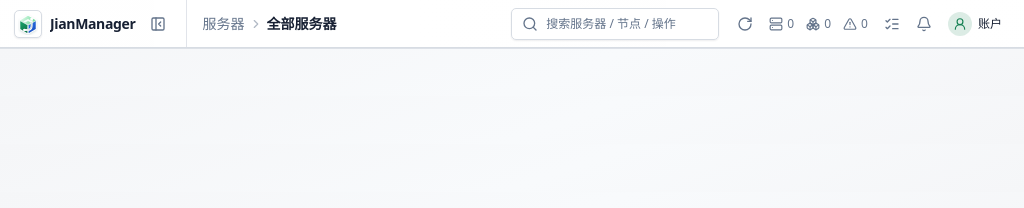
Test case: ConsoleHeader 任务中心下拉面板（FR-327） › 底部「进入任务中心」→ /tasks；面板随选择关闭
Click the button named "任务中心": click(892, 24) left=878, top=12, right=906, bottom=36
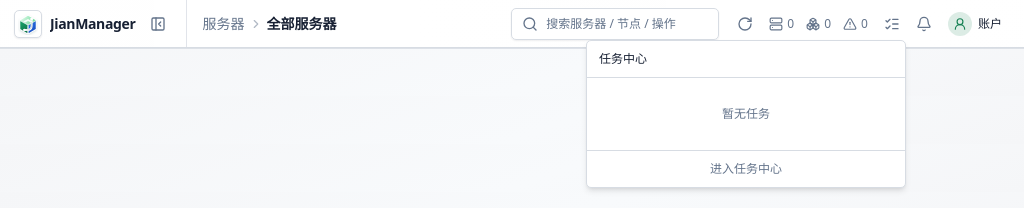
Click the menu item "进入任务中心": click(746, 168) left=710, top=160, right=782, bottom=177
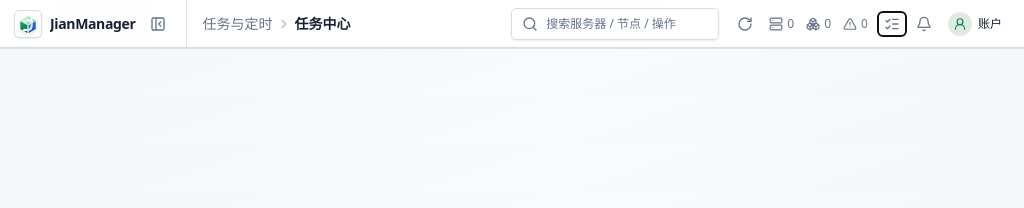
Check: the menu is gone
